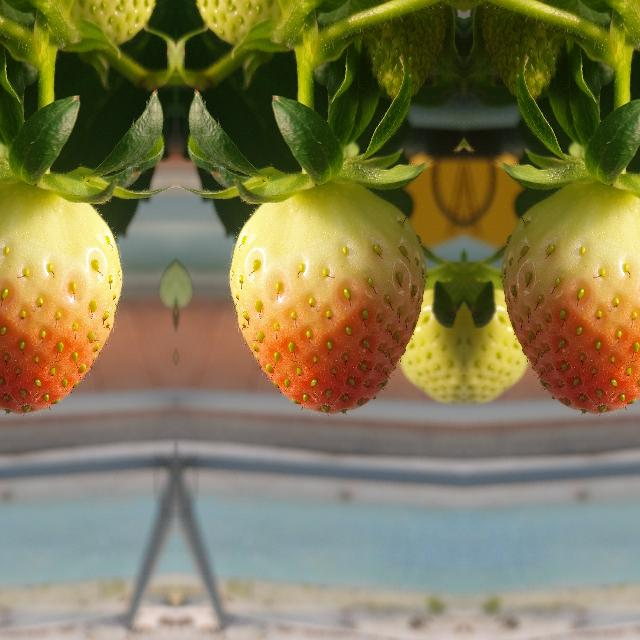Health_50: (228, 182, 424, 412), (502, 182, 640, 412), (0, 182, 121, 412)
